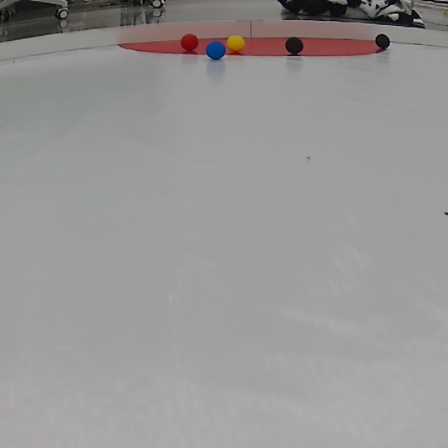black: (283, 35, 306, 57), (375, 32, 393, 53)
blue: (203, 42, 228, 62)
red: (180, 32, 200, 53)
red_base: (115, 31, 388, 62)
yellow: (225, 31, 249, 52)
